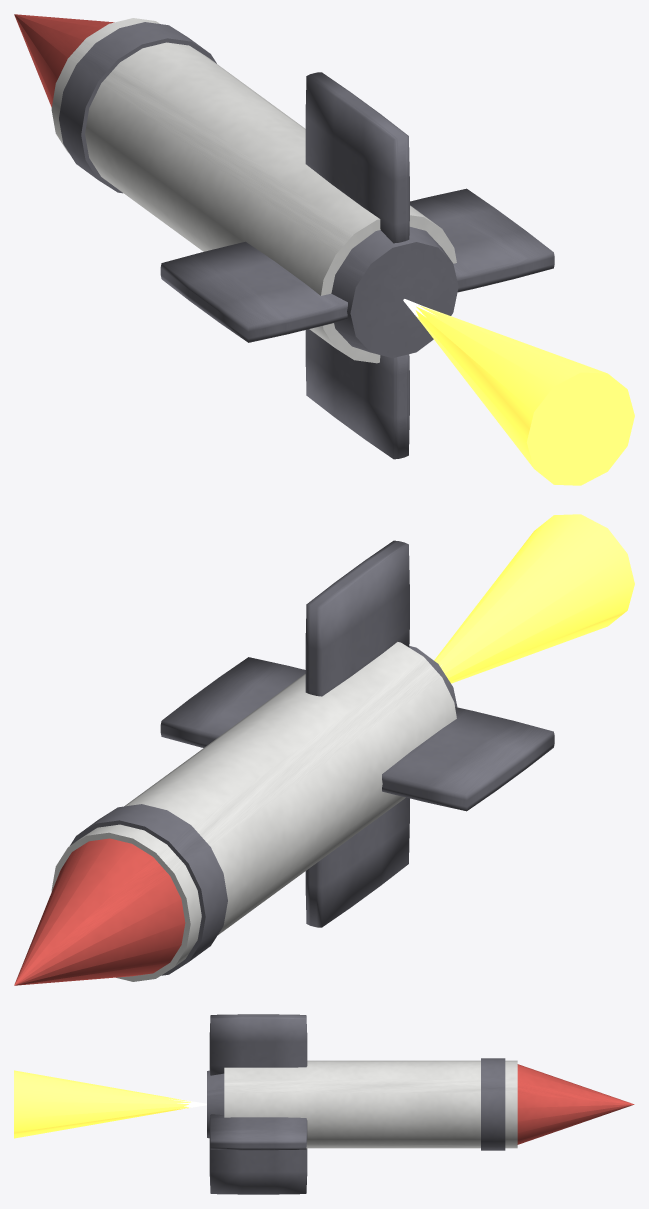
File: rocket.glb
3 renders of one model, top to bottom at view 1: azimuth 30°, elevation 25°; view 2: azimuth 150°, elevation 25°; view 3: azimuth 270°, elevation 25°, orthographic. The views are drawn at different scales.
Visible parts, largest first — view 1: rocket_body, Flame; view 2: rocket_body, Flame; view 3: rocket_body, Flame.
Part boxes in pixels (x1=…): rocket_body: x1=14, y1=14, x2=554, y2=459; Flame: x1=403, y1=299, x2=634, y2=485; rocket_body: x1=14, y1=540, x2=554, y2=985; Flame: x1=434, y1=514, x2=634, y2=683; rocket_body: x1=207, y1=1014, x2=634, y2=1194; Flame: x1=14, y1=1070, x2=206, y2=1138.
Bounding box in the file's own units: 0.4 × 0.4 × 1.27.
5 materials, 3 textured.
